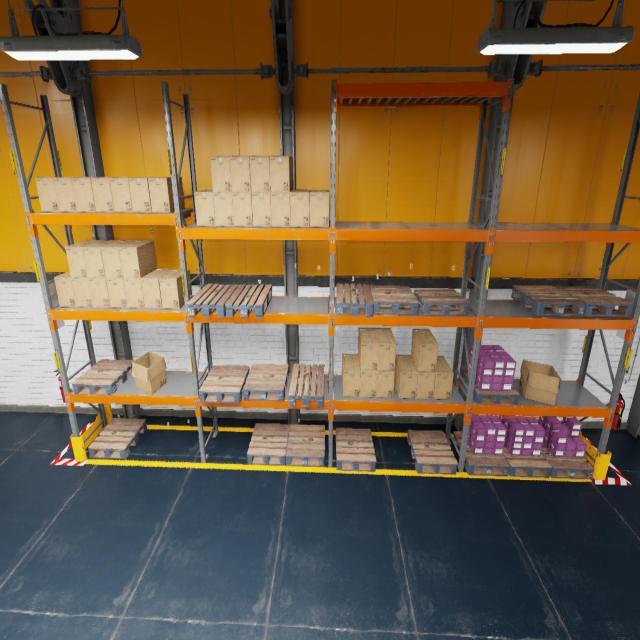box: (519, 359, 560, 405), (132, 351, 166, 395), (118, 240, 156, 278), (83, 240, 120, 278), (65, 240, 103, 277), (100, 240, 136, 278), (159, 269, 192, 309), (148, 177, 185, 212), (141, 269, 173, 308), (53, 176, 85, 212), (411, 329, 438, 371), (35, 176, 66, 212), (109, 177, 140, 212), (72, 177, 103, 212), (411, 355, 435, 399), (394, 354, 418, 398), (128, 177, 158, 212), (91, 177, 121, 212), (433, 356, 454, 400), (375, 328, 396, 371), (270, 156, 294, 192), (358, 328, 378, 370), (358, 356, 377, 398), (342, 353, 360, 397), (54, 271, 76, 307), (210, 156, 232, 192), (290, 190, 311, 226), (230, 156, 251, 192), (194, 190, 215, 226), (232, 192, 253, 226), (213, 192, 234, 226), (310, 190, 329, 227), (250, 156, 270, 191), (252, 192, 272, 226), (271, 192, 290, 226), (123, 279, 145, 308), (88, 278, 110, 307), (71, 278, 93, 307), (106, 278, 127, 308), (376, 371, 395, 398)
pallets: (453, 431, 510, 476), (555, 286, 634, 316), (88, 418, 147, 458), (511, 285, 585, 316), (407, 430, 458, 474), (72, 359, 134, 395), (460, 367, 520, 404), (198, 365, 250, 403), (541, 444, 594, 479), (247, 423, 290, 465), (336, 427, 376, 471), (243, 363, 289, 401), (187, 284, 238, 317), (286, 424, 325, 466), (225, 284, 272, 318), (503, 446, 552, 478), (289, 364, 324, 407), (370, 285, 419, 315), (414, 289, 469, 315), (336, 284, 374, 316)
